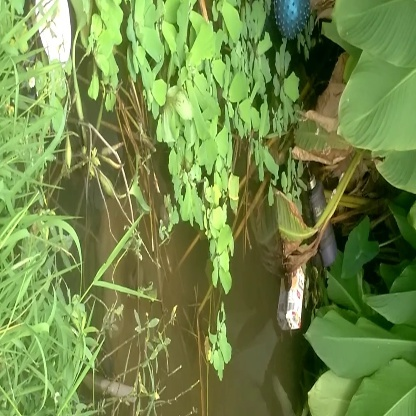milk-box: (276, 252, 308, 331)
